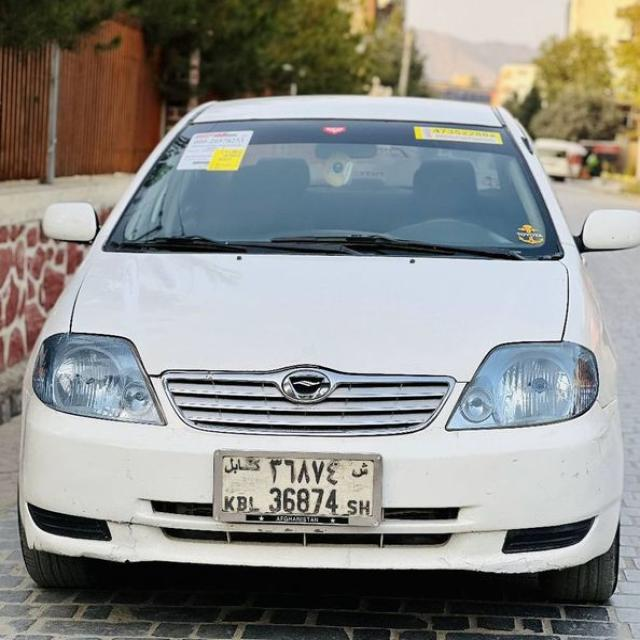Plate: (214, 449, 385, 526)
